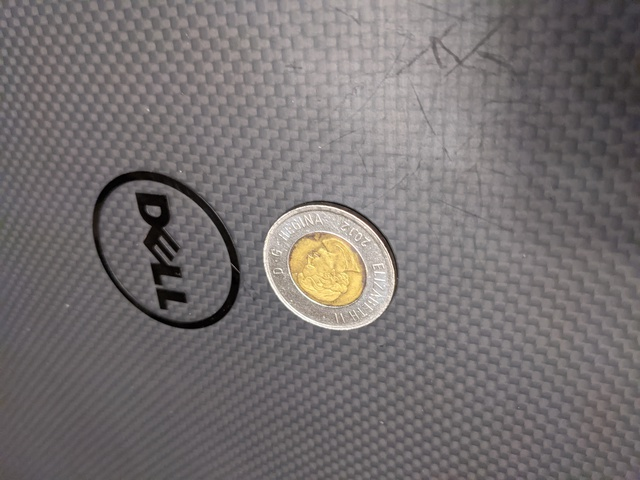twonie: (251, 193, 406, 342)
